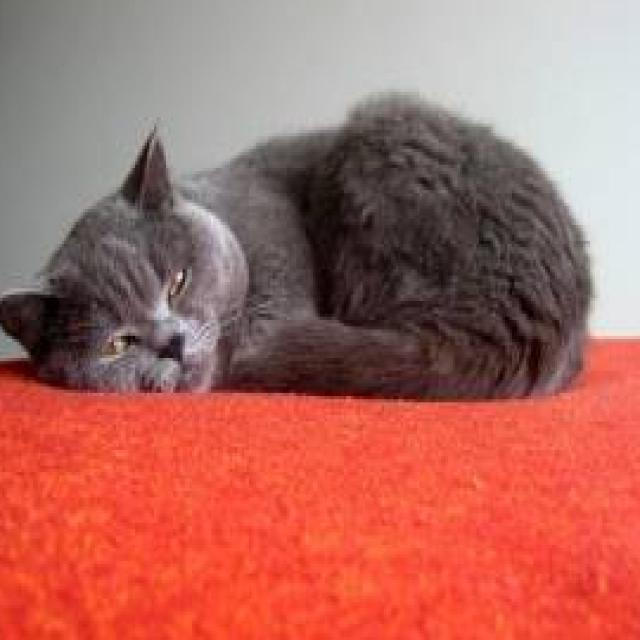British Shorthair: (0, 85, 597, 408)
